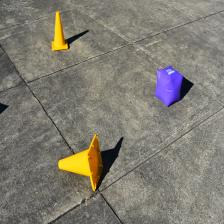cone: (58, 133, 104, 192), (52, 11, 68, 52)
cube: (154, 65, 184, 108)
